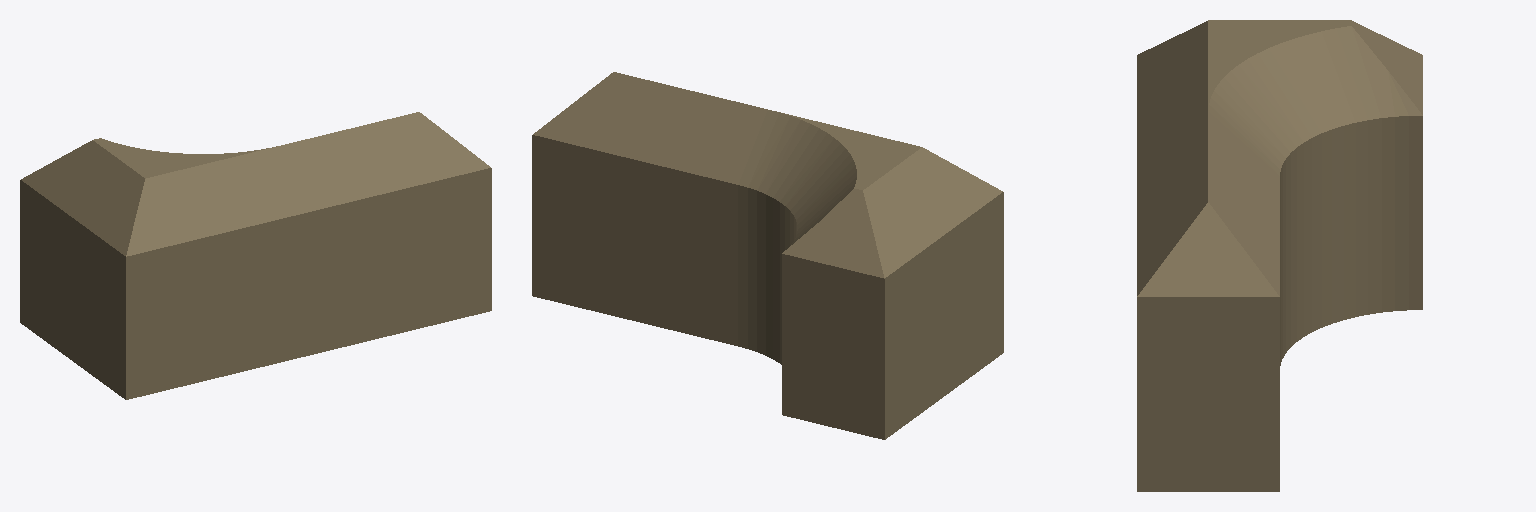
The robot description file, URDF, robot "L_Chamfered":
<?xml version="1.0"?>
<robot name="L_Chamfered">
  <link name="base_link">
    <visual>
      <origin xyz="0 0 0" rpy="0 0 0" />
      <geometry>
        <mesh filename="L_Chamfered.obj"/>      
      </geometry>
      <material name="tan">
        <color rgba="0.55 0.5 0.4 1"/>
      </material>
    </visual>
    <collision>
      <origin xyz="0 0 0" rpy="0 0 0" />
      <geometry>
        <mesh filename="L_Chamfered.obj"/>
      </geometry>
    </collision>
  </link>
</robot>

--- Facts derived from the render (not from the file) ---
3 views of the same robot in one strip: view 1: azimuth 30°, elevation 25°; view 2: azimuth 150°, elevation 25°; view 3: azimuth 270°, elevation 25° (orthographic).
Model L_Chamfered with 1 links and 0 joints (none), rooted at base_link, posed every joint at zero.
Links seen in each view (by area): view 1: base_link; view 2: base_link; view 3: base_link.
Boxes of the visible links, box(x1,y1,x2,y2) form: base_link: box(20, 112, 491, 399); base_link: box(532, 72, 1003, 439); base_link: box(1137, 20, 1422, 491).
Bounding box of the posed robot: 50.8 × 25.4 × 25.4 m (x, y, z).
Meshes: 1 distinct files referenced, 1 mesh visuals loaded (1 OBJ).
